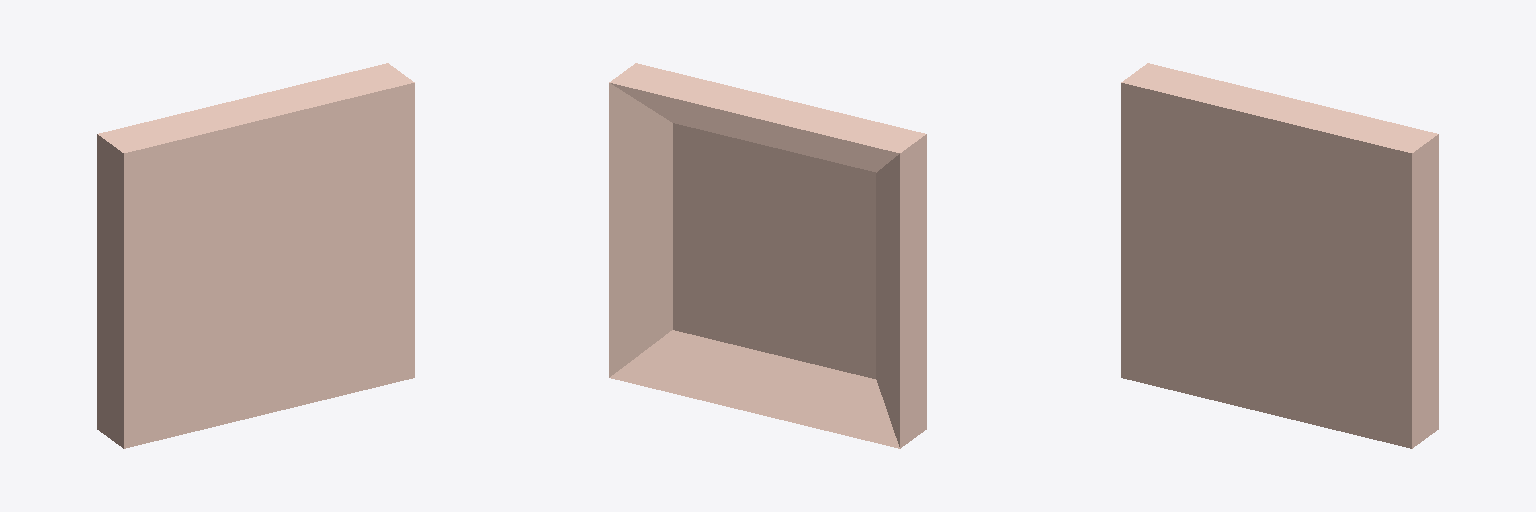
The model's file is Cell.obj.
The picture shows the model from 3 angles: view 1: azimuth 30°, elevation 25°; view 2: azimuth 150°, elevation 25°; view 3: azimuth 330°, elevation 25°; orthographic projection.
Parts seen in each view (by area): view 1: Cube4.001_Cube.009; view 2: Cube4.001_Cube.009; view 3: Cube4.001_Cube.009.
Boxes of the visible parts, x1,y1,x2,y2 form: Cube4.001_Cube.009: [97, 63, 414, 448]; Cube4.001_Cube.009: [609, 63, 926, 448]; Cube4.001_Cube.009: [1121, 63, 1438, 448].
Bounding box in the file's own units: 0.2958 × 0.287 × 0.047.